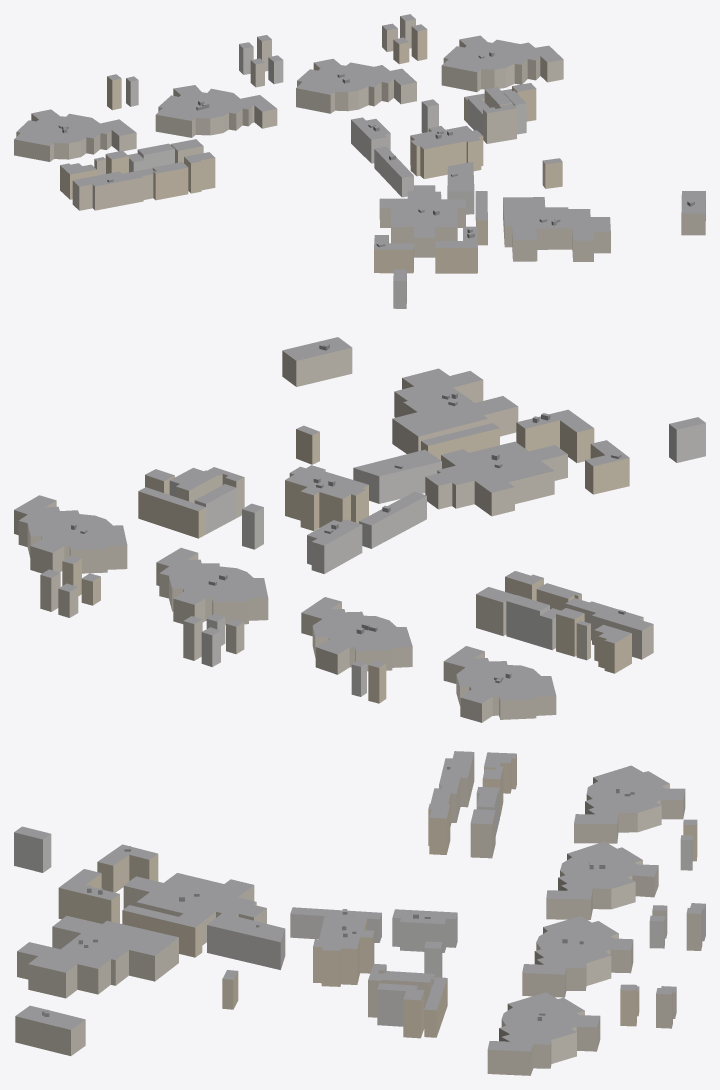
The model's file is building_4_0.glb.
3 renders of one model, top to bottom at view 1: azimuth 30°, elevation 25°; view 2: azimuth 150°, elevation 25°; view 3: azimuth 270°, elevation 25°, orthographic. The views are drawn at different scales.
Visible parts, largest first — view 1: roof, concrete_warm, sandstone, concrete_light; view 2: roof, concrete_warm, sandstone, concrete_light; view 3: roof, concrete_warm, sandstone, concrete_light.
Boxes of the visible parts, x1,y1,x2,y2 form: roof: [14, 14, 705, 280]; concrete_warm: [14, 16, 705, 261]; sandstone: [60, 27, 562, 273]; concrete_light: [126, 44, 526, 308]; roof: [14, 337, 705, 703]; concrete_warm: [14, 348, 653, 722]; sandstone: [62, 420, 631, 703]; concrete_light: [169, 423, 705, 696]; roof: [14, 751, 705, 1051]; concrete_warm: [15, 753, 702, 1075]; sandstone: [58, 755, 697, 1038]; concrete_light: [14, 788, 705, 1026].
Bounding box in the file's own units: 257 × 16.27 × 254.
